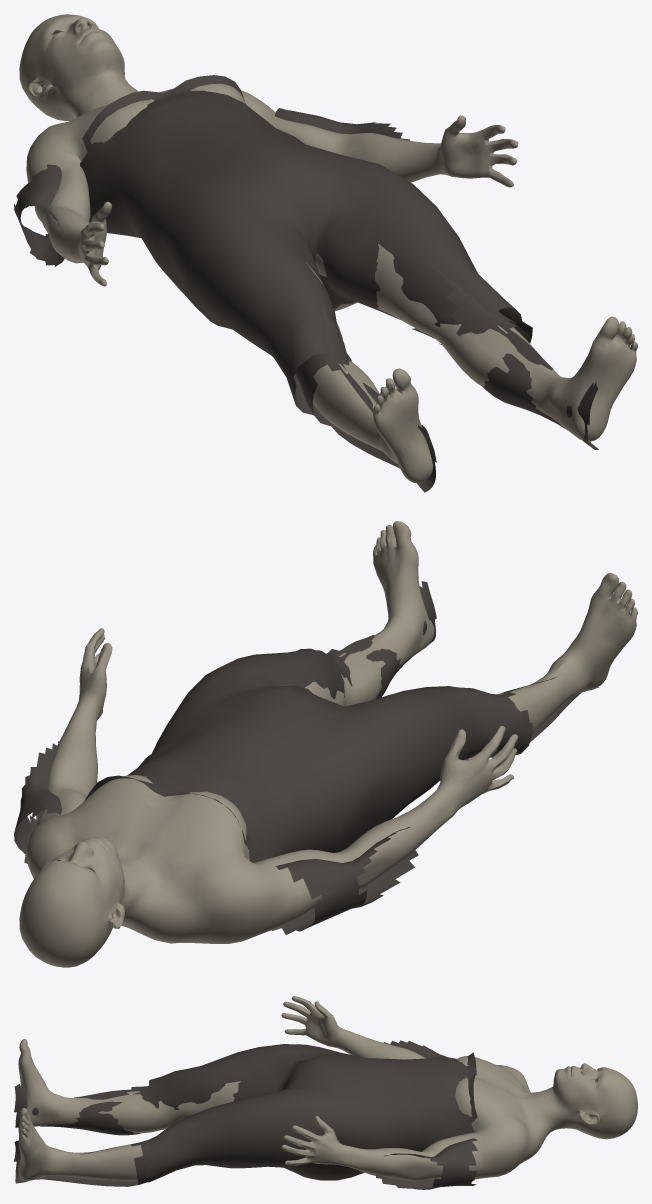
File: ash_husk.glb
3 renders of one model, top to bottom at view 1: azimuth 30°, elevation 25°; view 2: azimuth 150°, elevation 25°; view 3: azimuth 270°, elevation 25°, orthographic. The views are drawn at different scales.
Parts seen in each view (by area): view 1: V36_Husk_TornGarment, V36_RealisticAnatomicalBody, V36_Husk_LegWraps, V36_Husk_ArmWraps; view 2: V36_RealisticAnatomicalBody, V36_Husk_TornGarment, V36_Husk_LegWraps; view 3: V36_Husk_TornGarment, V36_RealisticAnatomicalBody, V36_Husk_LegWraps, V36_Husk_ArmWraps.
Boxes of the visible parts, <box> form: V36_Husk_TornGarment: <box>14,75,532,415</box>; V36_RealisticAnatomicalBody: <box>19,14,637,483</box>; V36_Husk_LegWraps: <box>327,317,598,492</box>; V36_Husk_ArmWraps: <box>265,210,529,426</box>; V36_RealisticAnatomicalBody: <box>19,521,637,967</box>; V36_Husk_TornGarment: <box>14,648,532,934</box>; V36_Husk_LegWraps: <box>328,581,598,742</box>; V36_Husk_TornGarment: <box>144,1040,477,1189</box>; V36_RealisticAnatomicalBody: <box>18,996,637,1181</box>; V36_Husk_LegWraps: <box>14,1084,140,1186</box>; V36_Husk_ArmWraps: <box>134,1058,267,1184</box>.
Size of the model in its own units: 2.06 by 0.7675 by 3.98.
